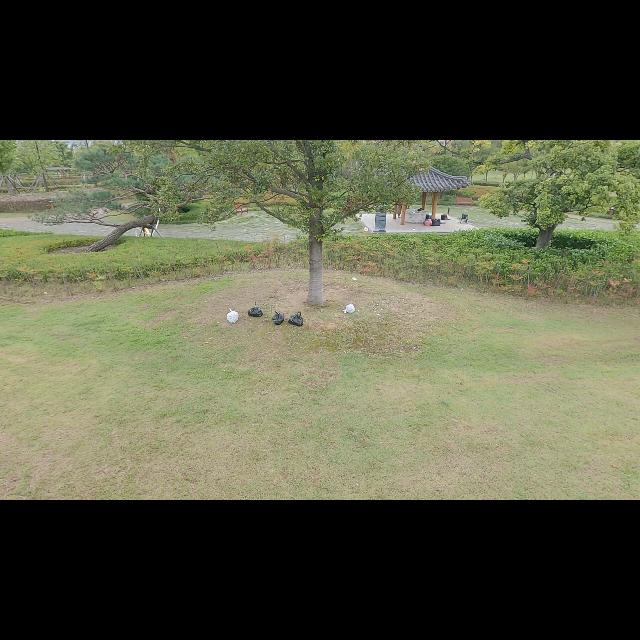trash: (288, 311, 304, 327), (248, 302, 262, 318), (227, 308, 240, 324), (272, 311, 284, 325), (342, 304, 356, 314), (352, 277, 358, 281)
